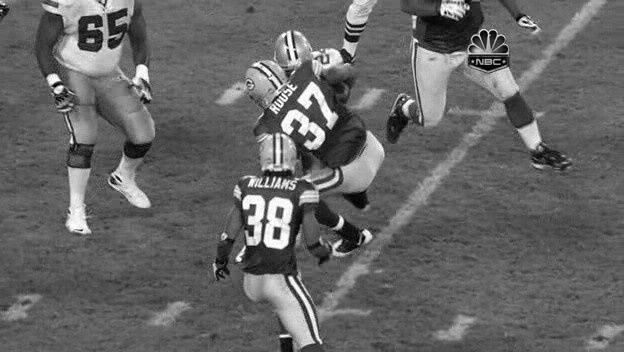person: (275, 36, 308, 78), (274, 36, 307, 78), (276, 36, 309, 78), (275, 35, 308, 77), (275, 37, 308, 79)
target_negative: (60, 31, 266, 315), (312, 75, 552, 215), (413, 23, 590, 98), (23, 299, 375, 322), (502, 162, 616, 204), (87, 253, 530, 255)
